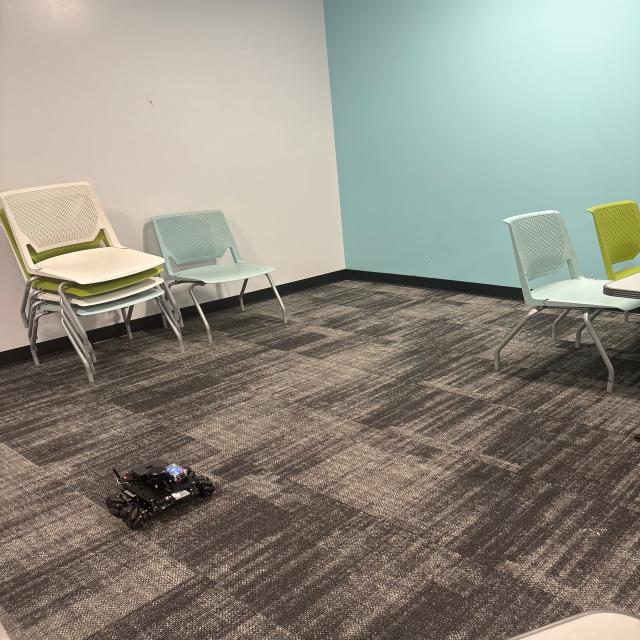ArduinoCar3: (107, 456, 217, 526)
